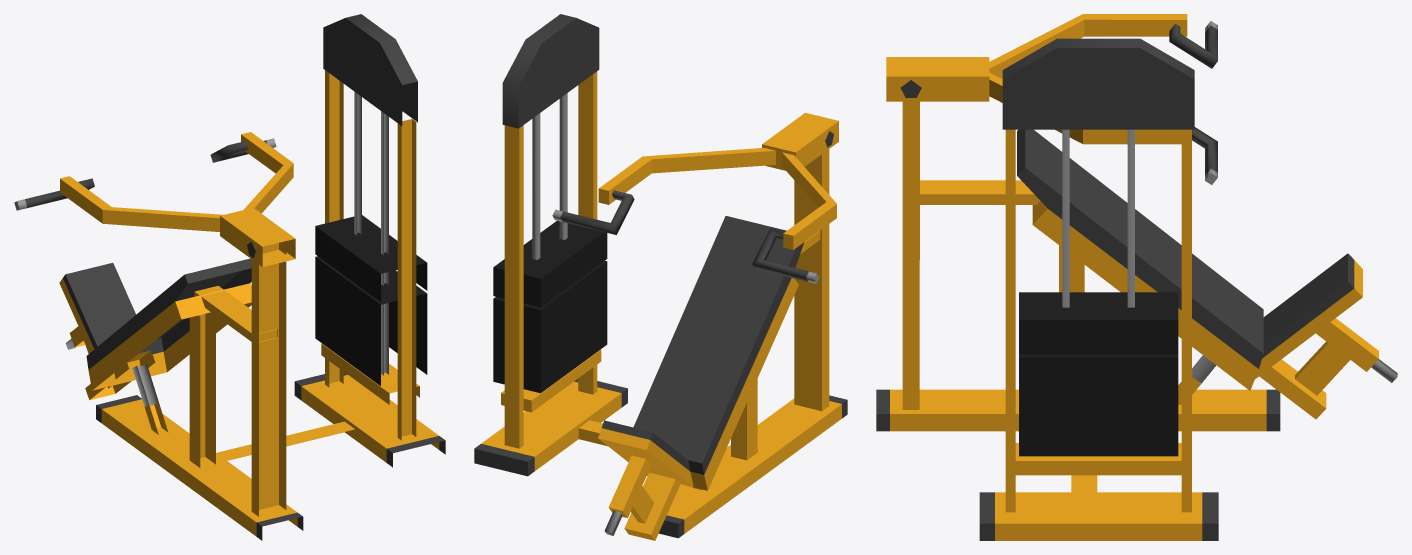
Rendered from interior_k_007.fbx.
3 renders of one model, left to right at view 1: azimuth 30°, elevation 25°; view 2: azimuth 150°, elevation 25°; view 3: azimuth 270°, elevation 25°, orthographic. The views are drawn at different scales.
Visible parts, largest first — view 1: interior_k_007; view 2: interior_k_007; view 3: interior_k_007.
Part boxes in pixels (x1,y1,x2,y2): interior_k_007: (14,14,445,540); interior_k_007: (474,14,847,540); interior_k_007: (876,14,1397,540).
Size of the model in its own units: 137 by 156 by 153.
